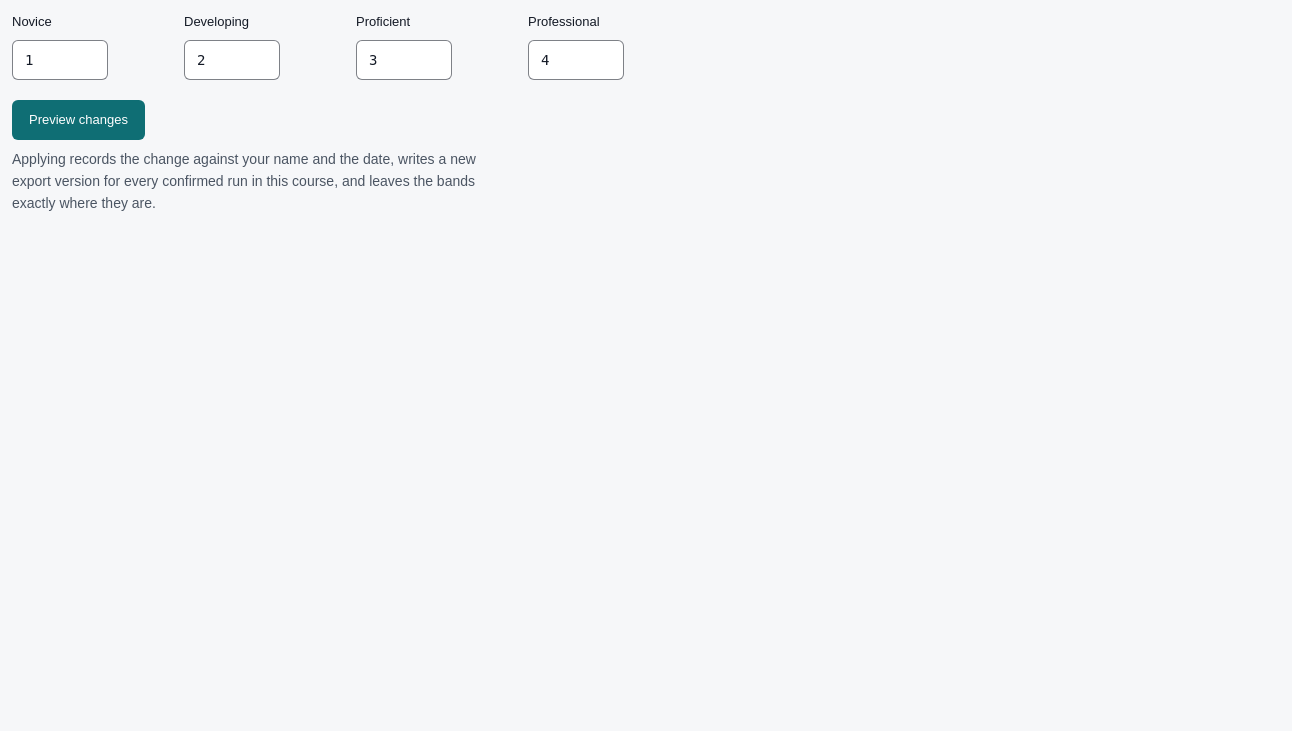
Test case: MappingEditor (UI-030 → Mapping) › quotes the envelope when the action refuses the apply
Replace the text in the field labelled "Novice" with "1.5" at x=60, y=60, box x1=12 y1=40 x2=108 y2=80
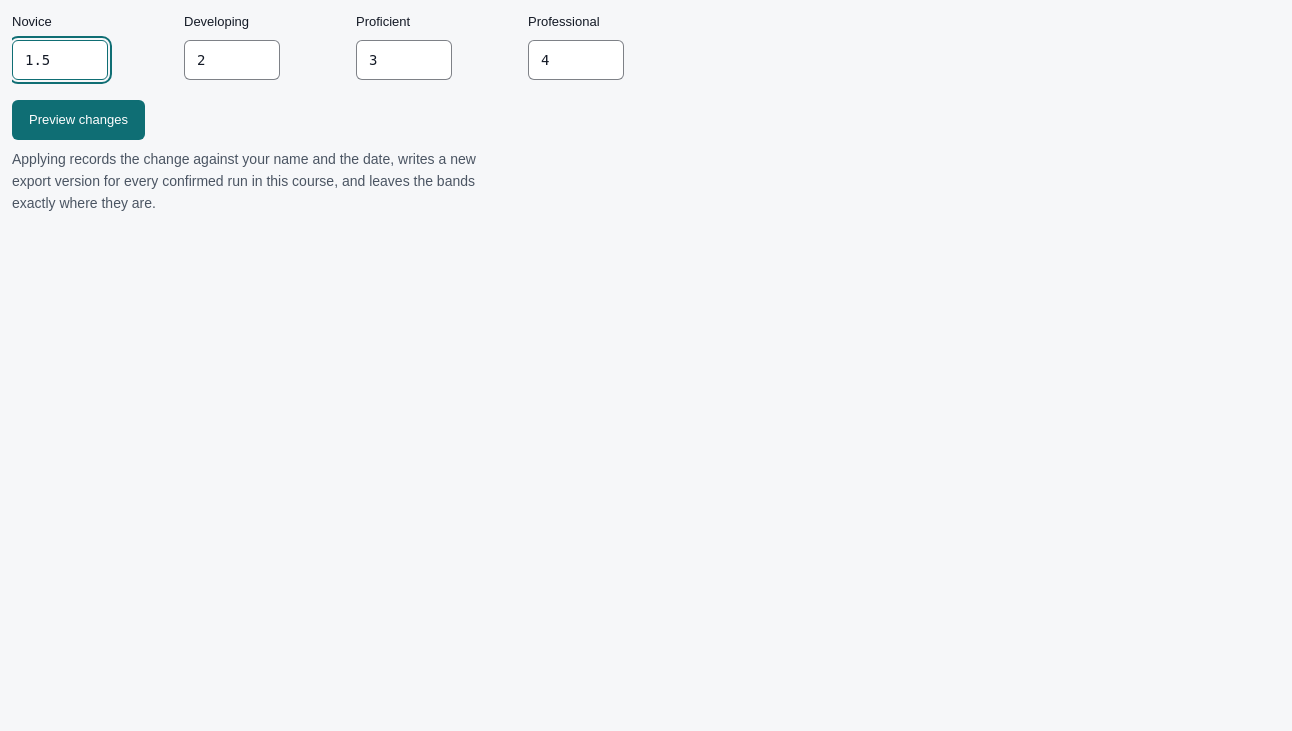
Click the button "Preview changes" at x=78, y=120, box x1=12 y1=100 x2=145 y2=140
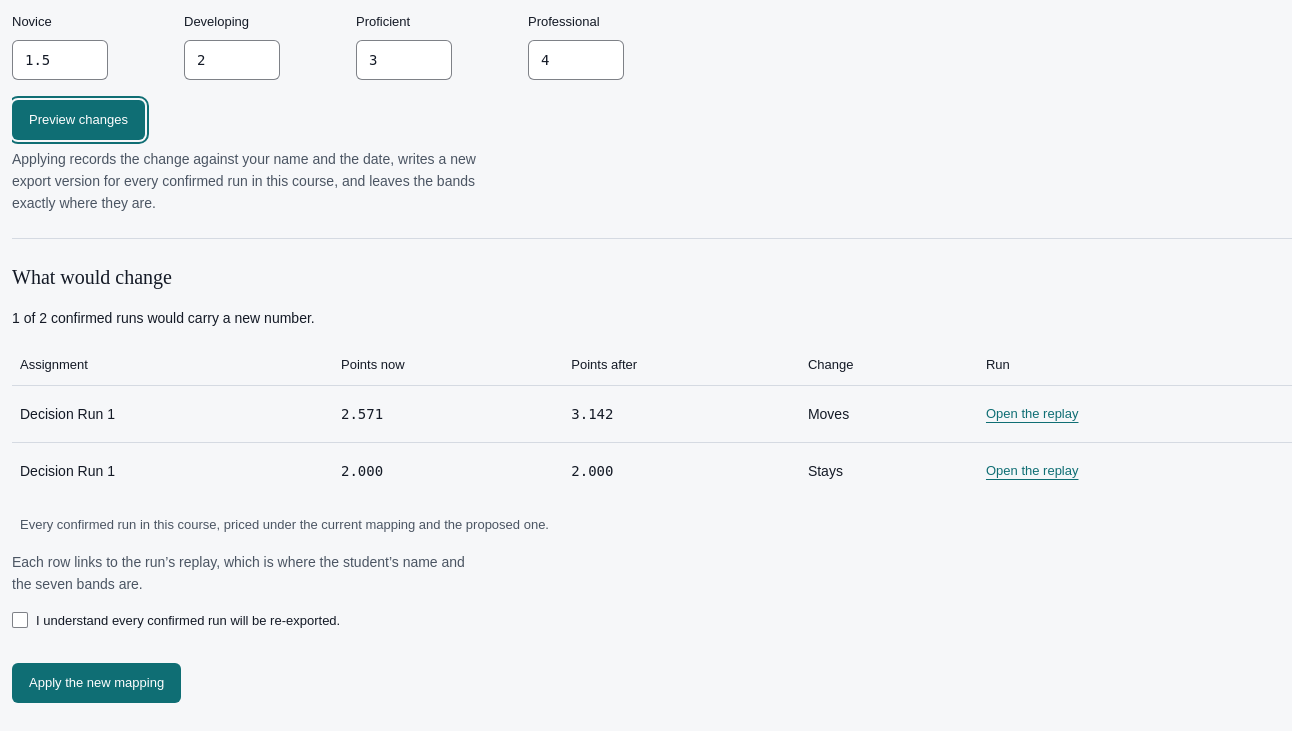
Expected: the heading "What would change" is shown, x1=12 y1=266 x2=172 y2=288
Click the checkbox named "I understand every confirmed run will be re-exported." at x=20, y=620, box x1=12 y1=612 x2=28 y2=628
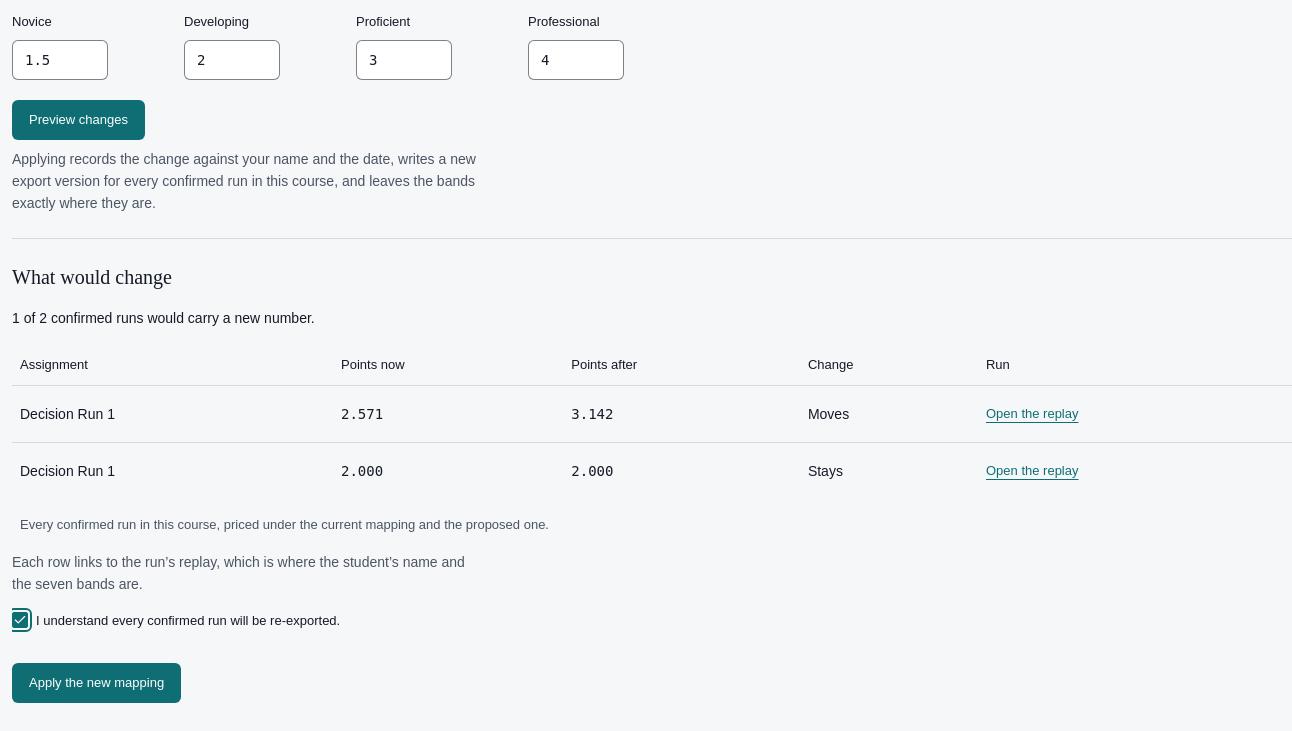
Click the button "Apply the new mapping" at x=97, y=682, box x1=12 y1=662 x2=181 y2=702
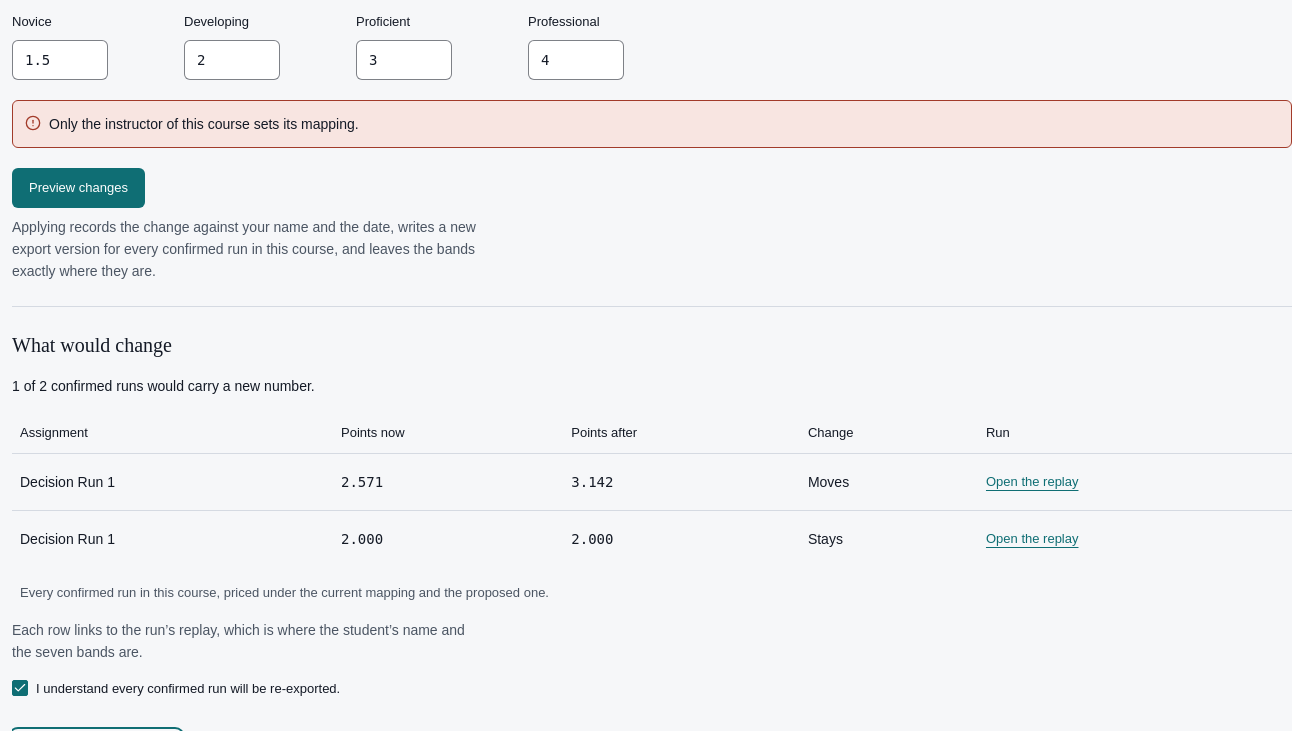
Expected: the message does not show "Applying records the change against your name and the date, writes a new export version for every confirmed run in this course, and leaves the bands exactly whe", x1=12 y1=100 x2=1291 y2=148
Expected: the message reads "Only the instructor of this course sets its mapping.", x1=49 y1=116 x2=359 y2=132
